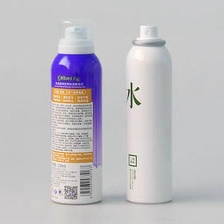aerosol_cans: (45, 16, 105, 206), (121, 21, 176, 207)
